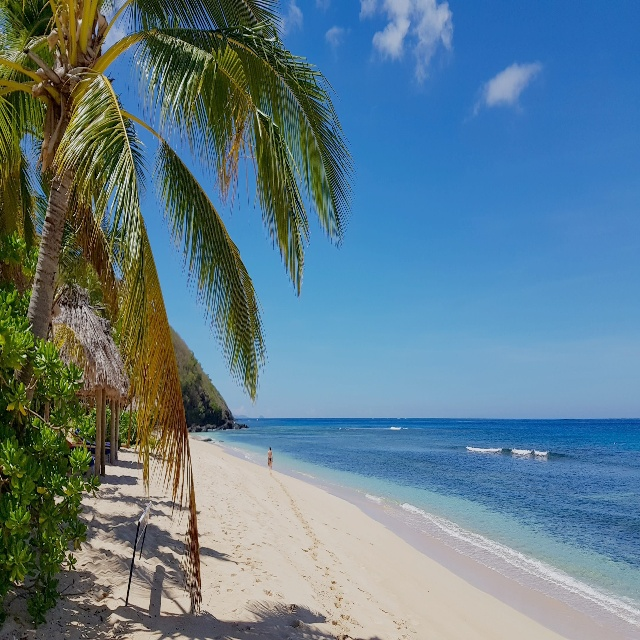linhaEspraiamento: (257, 452, 638, 629), (193, 433, 367, 479)
